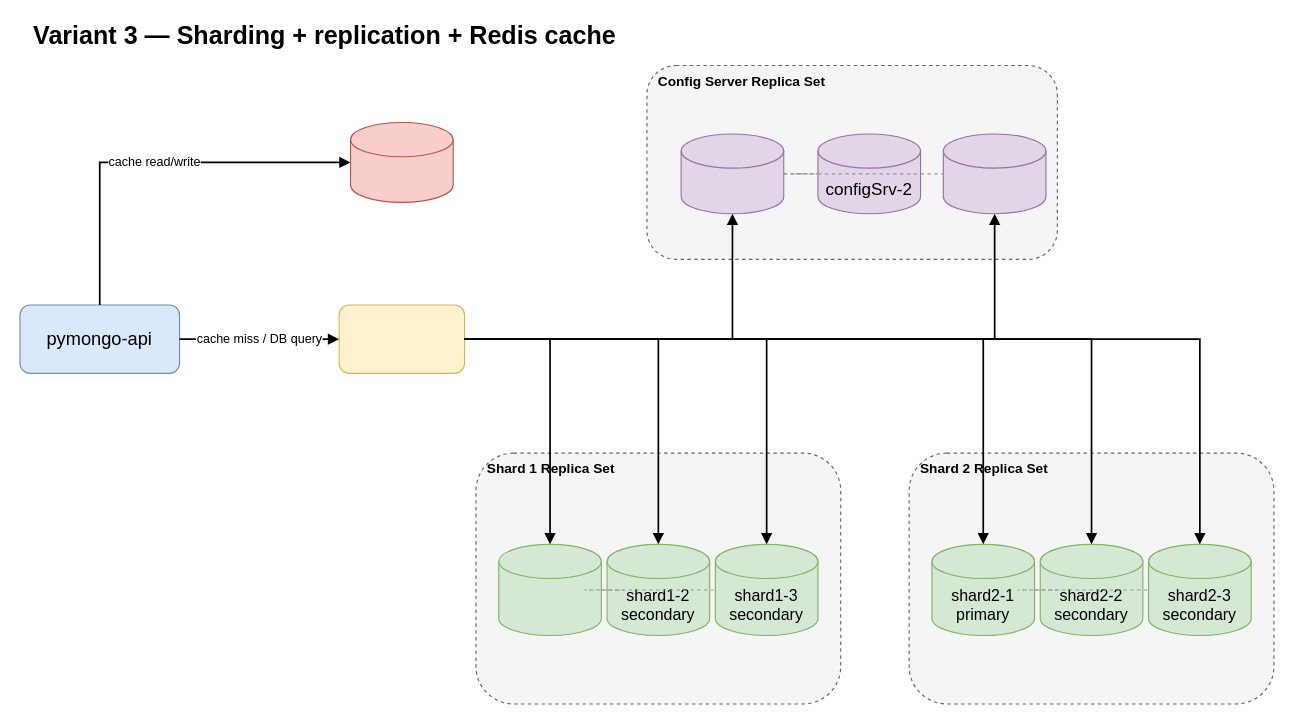
Image size: 1294x724. Some labels were removed from this diagram. The shapes that lost their labels are listed below. From the top down, each one's centre as x and y in pixels, then its label:
the point at 401,161: redis
the point at 732,173: configSrv-1
the point at 994,173: configSrv-3
the point at 401,338: mongos
the point at 549,589: shard1-1 primary
